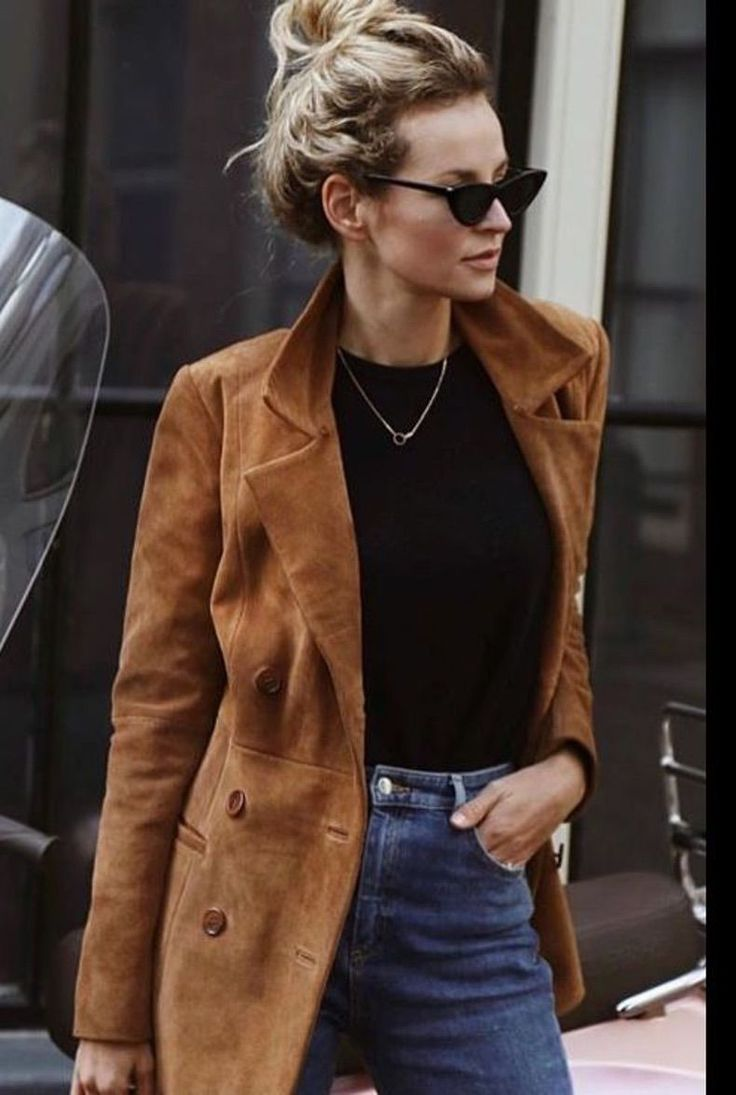gamuza: (72, 250, 610, 1095)
